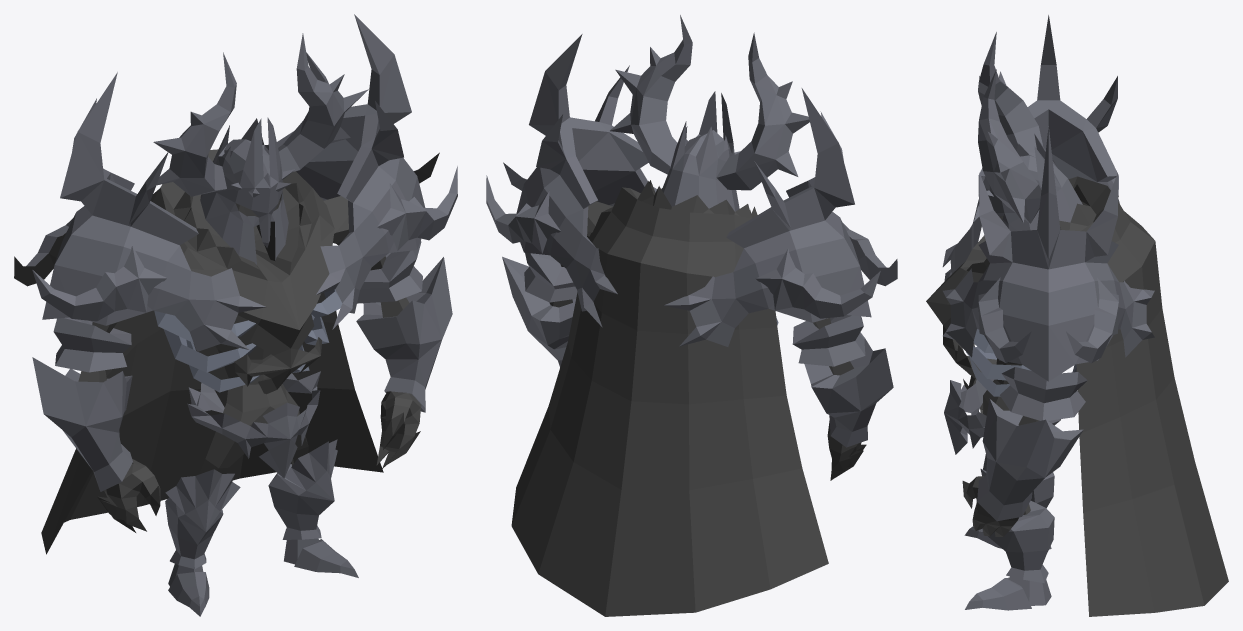
Rendered from DeathKnight_K_acc.FBX.
The picture shows the model from 3 angles, left to right: view 1: azimuth 30°, elevation 25°; view 2: azimuth 150°, elevation 25°; view 3: azimuth 270°, elevation 25°; orthographic projection. The views are drawn at different scales.
Parts seen in each view (by area): view 1: DeathKnight_K_acc; view 2: DeathKnight_K_acc; view 3: DeathKnight_K_acc.
Part boxes in pixels (x1=…): DeathKnight_K_acc: x1=14, y1=14, x2=457, y2=616; DeathKnight_K_acc: x1=486, y1=15, x2=897, y2=616; DeathKnight_K_acc: x1=926, y1=15, x2=1228, y2=616.
Bounding box in the file's own units: 1.53 × 1.9 × 0.9823.
